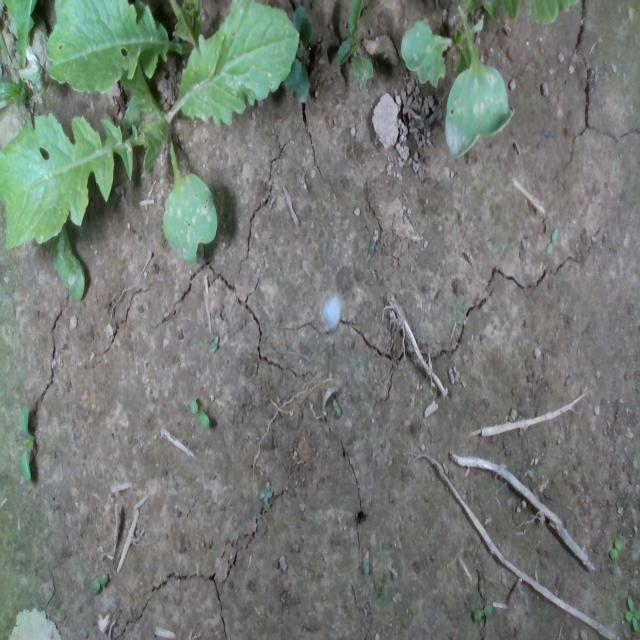weed: (188, 397, 210, 428)
